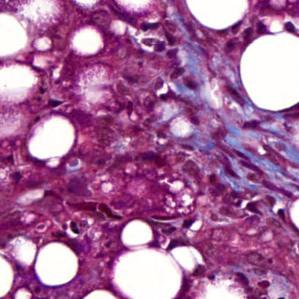steatosis: (35, 241, 80, 285), (120, 220, 154, 247)
